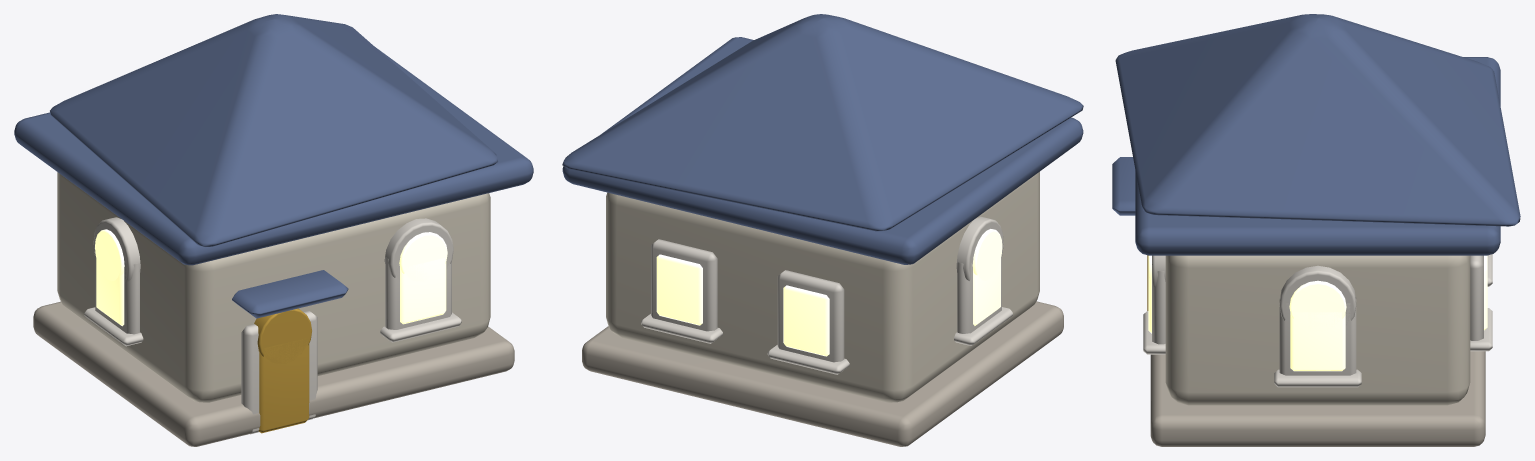
3 renders of one model, left to right at view 1: azimuth 30°, elevation 25°; view 2: azimuth 150°, elevation 25°; view 3: azimuth 270°, elevation 25°, orthographic. The views are drawn at different scales.
Visible parts, largest first — view 1: Cube; view 2: Cube; view 3: Cube.
Boxes of the visible parts, x1,y1,x2,y2 form: Cube: (14,14,533,446); Cube: (562,14,1083,446); Cube: (1112,14,1520,446).
Bounding box in the file's own units: 0.56 × 0.5055 × 0.536.
